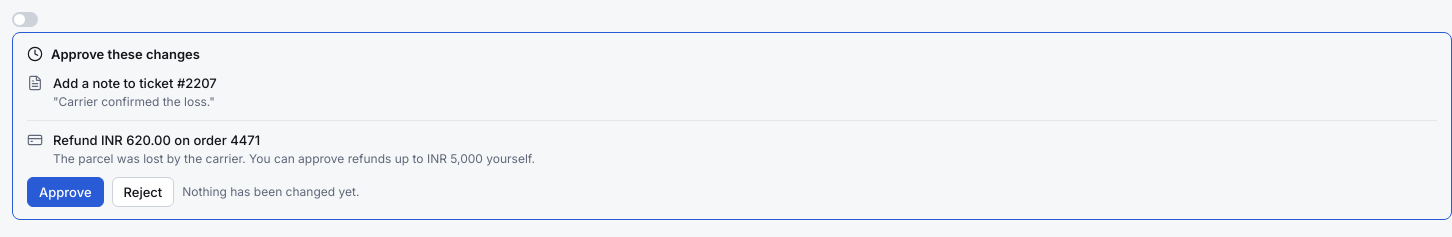
Test case: rejecting › goes back to the choice without deciding anything
What coordinates should you click on to do the following:
click the button "Reject"
I would click on:
 (143, 192)
Its box is [112, 177, 174, 207].
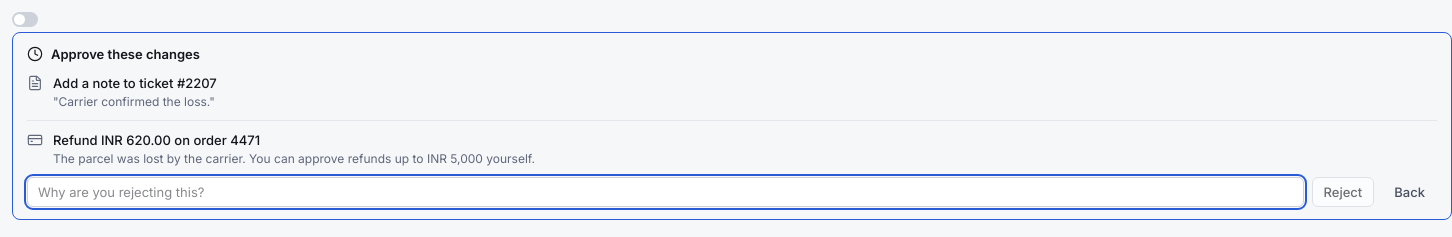
What coordinates should you click on to do the following:
click the button "Back"
I would click on:
 (1410, 192)
Its box is [1382, 177, 1437, 207].
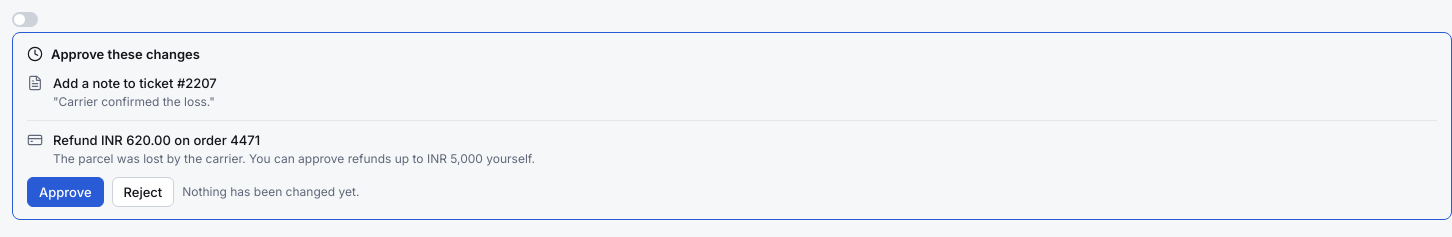
Check: the button "Approve" is shown, box [27, 177, 104, 207]
